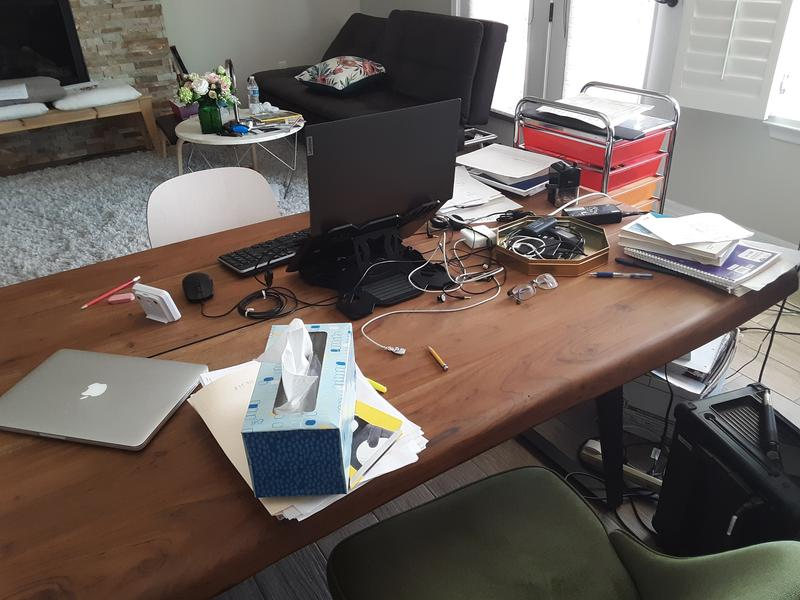glasses: (507, 272, 560, 306)
